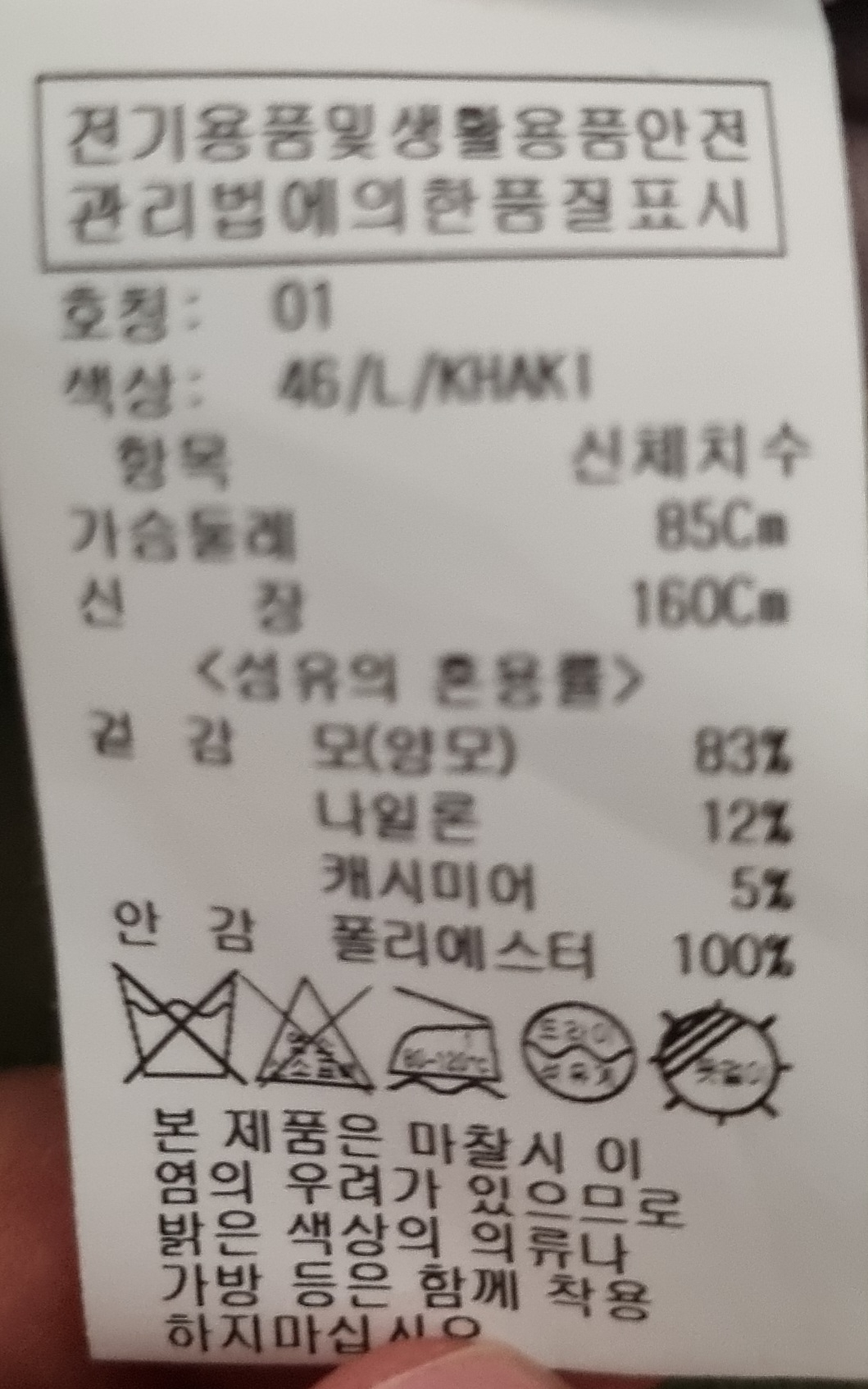KR_dry_clean_petroleum: (508, 985, 643, 1109)
KR_hang_dry_in_shade: (648, 993, 797, 1130)
KR_iron_low_temp_with_cloth: (382, 979, 510, 1106)
KR_no_bleach: (244, 968, 378, 1095)
KR_no_wash: (105, 950, 246, 1093)
